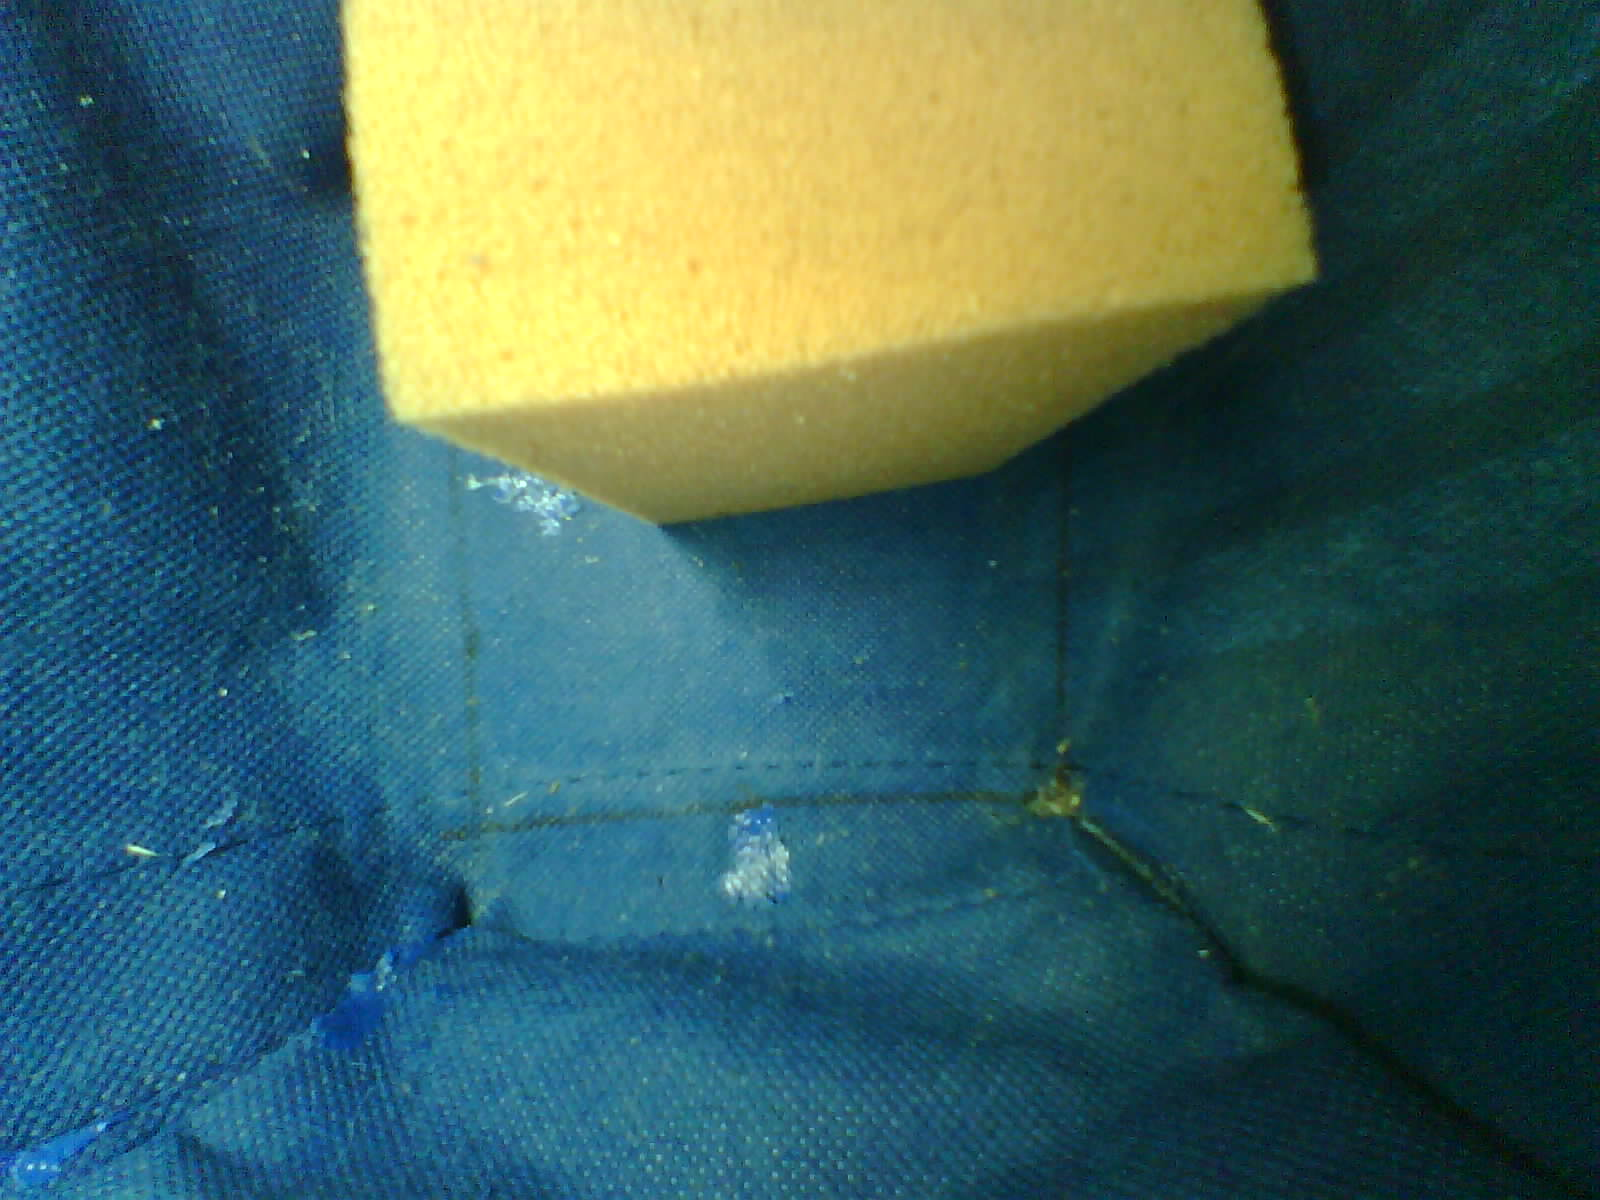cube-soft: (314, 0, 1334, 560)
